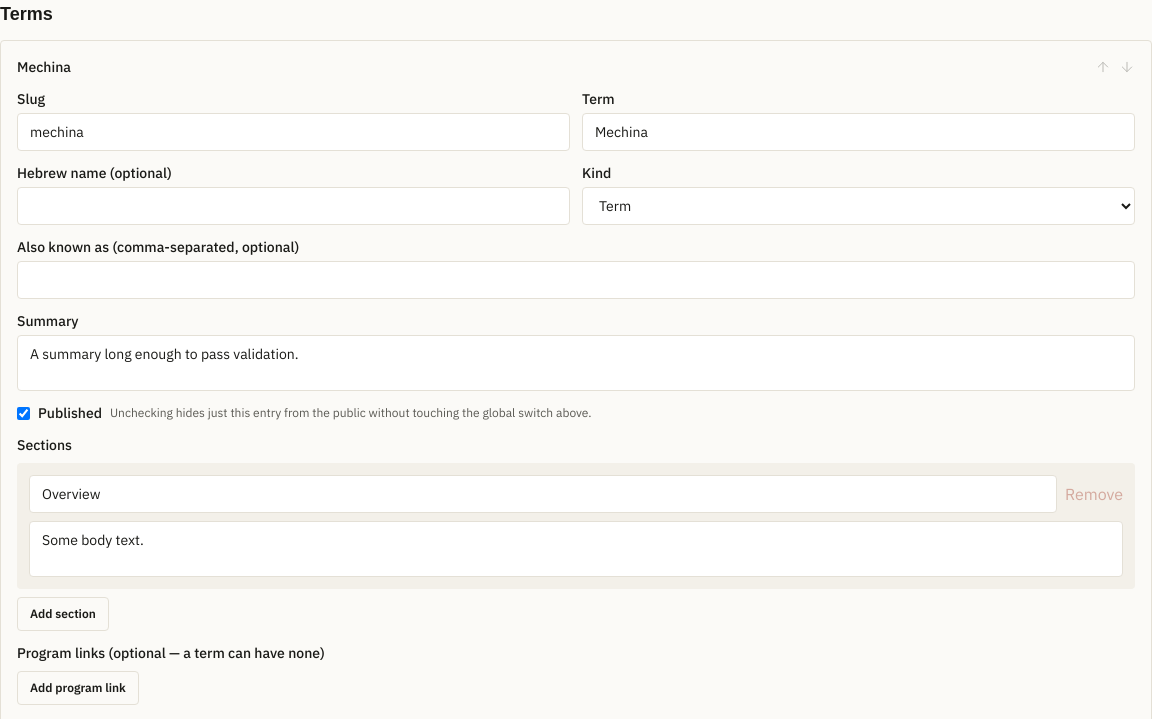
Test: GlossaryEntriesManager › typing into an entry shows an Unsaved badge and the sticky counter
Check: the text "Unsaved" is not shown
Replace the text in the text box showing "A summary long enough to pass validation." with "An updated summary long enough to pass validation.": (576, 363) [17,335,1135,391]
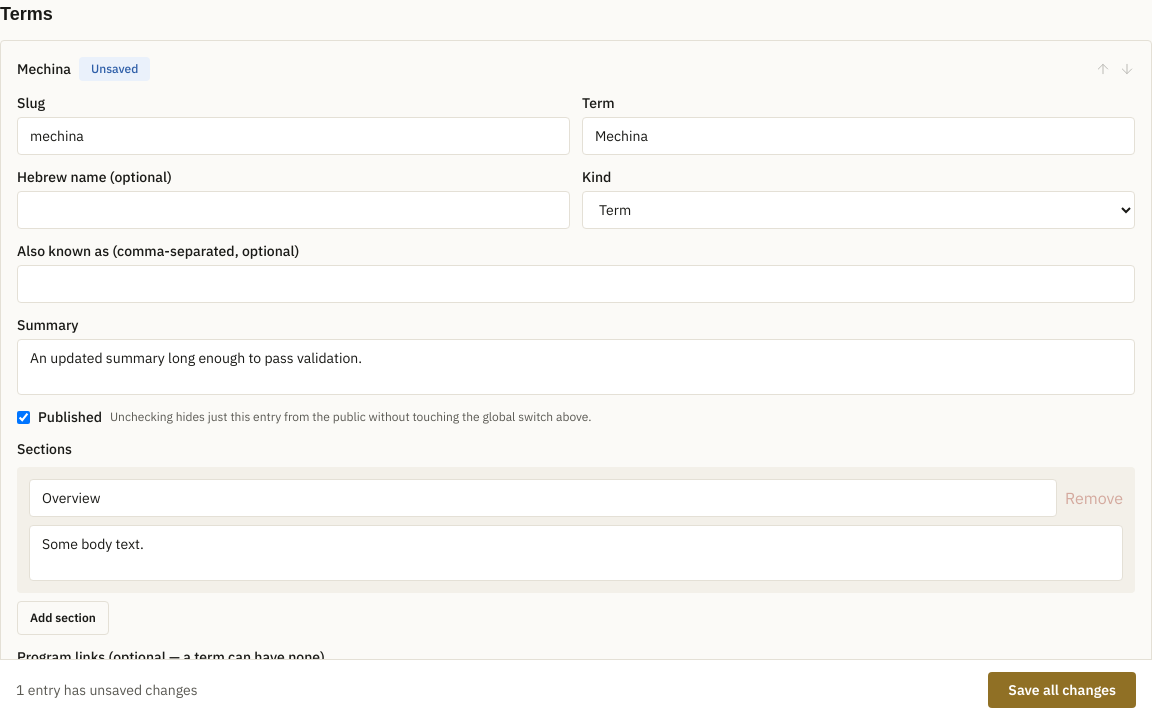
Check: the text "Unsaved" is shown, box [79,57,150,81]
Check: the text "1 entry has unsaved changes" is shown, box [16,680,198,700]
